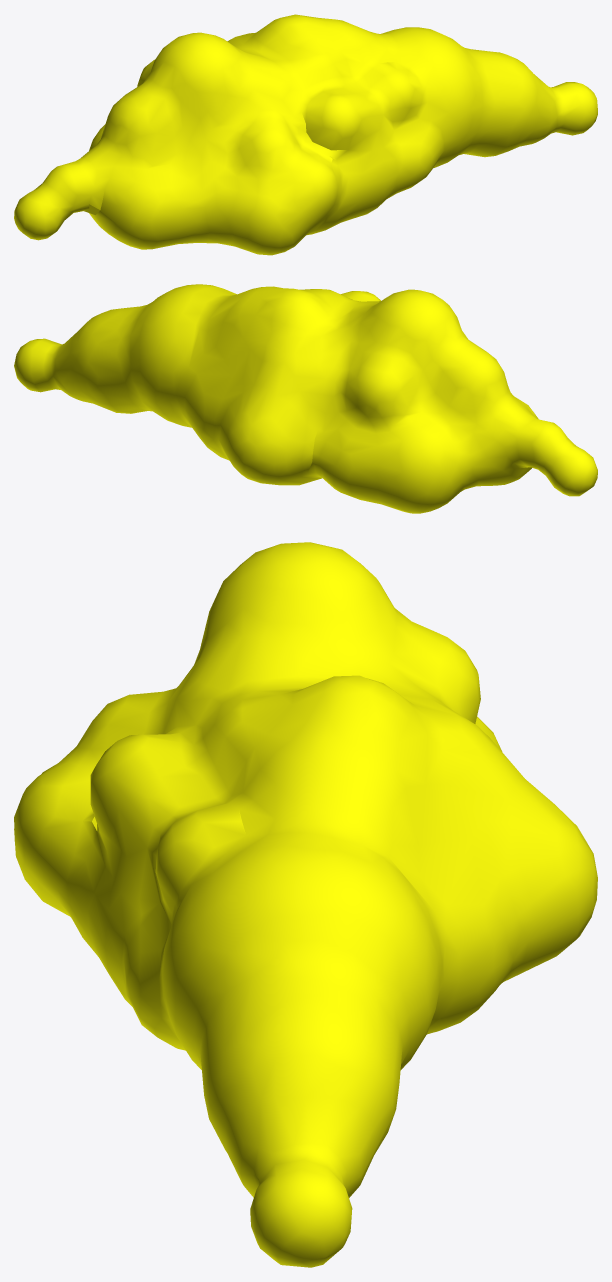
Rendered from cloud_i.glb.
3 renders of one model, top to bottom at view 1: azimuth 30°, elevation 25°; view 2: azimuth 150°, elevation 25°; view 3: azimuth 270°, elevation 25°, orthographic. The views are drawn at different scales.
Visible parts, largest first — view 1: SM_Cloud_09; view 2: SM_Cloud_09; view 3: SM_Cloud_09.
Boxes of the visible parts, bbox=[...] form: SM_Cloud_09: bbox=[14, 14, 597, 255]; SM_Cloud_09: bbox=[14, 284, 597, 513]; SM_Cloud_09: bbox=[14, 542, 597, 1267].
Size of the model in its own units: 16.82 by 5.44 by 7.61.
